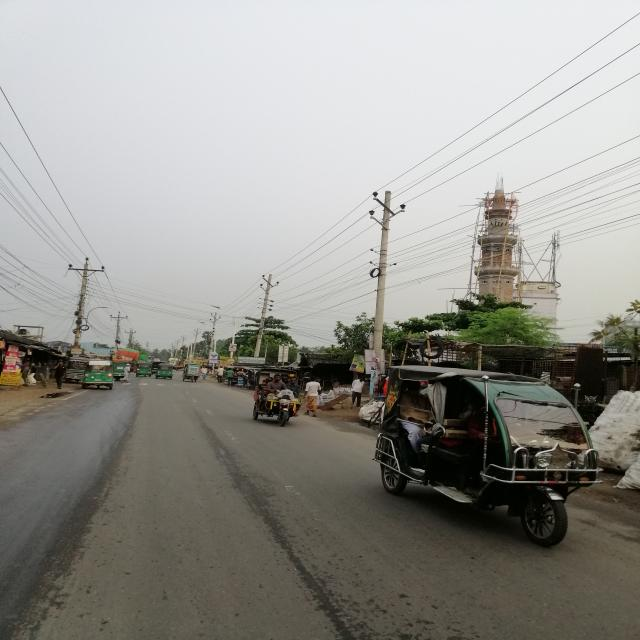Easybike: (374, 365, 600, 547)
